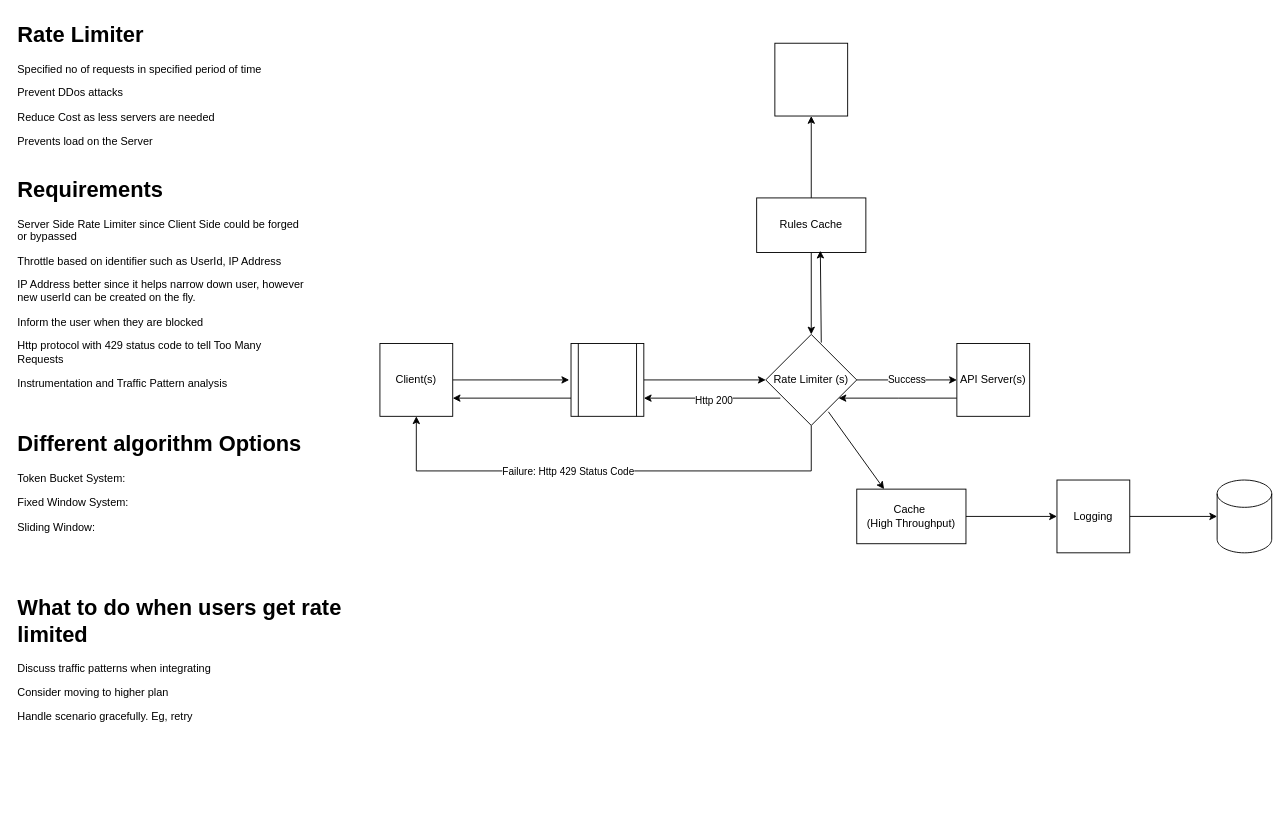
This 1288x825 diagram has some shape labels left out. Here are the shapes that lost their labels. From the top down, the centre of each, then its label:
point (811, 79): Rules Engine
point (607, 379): Load Balancer
point (1244, 516): Logging DB
